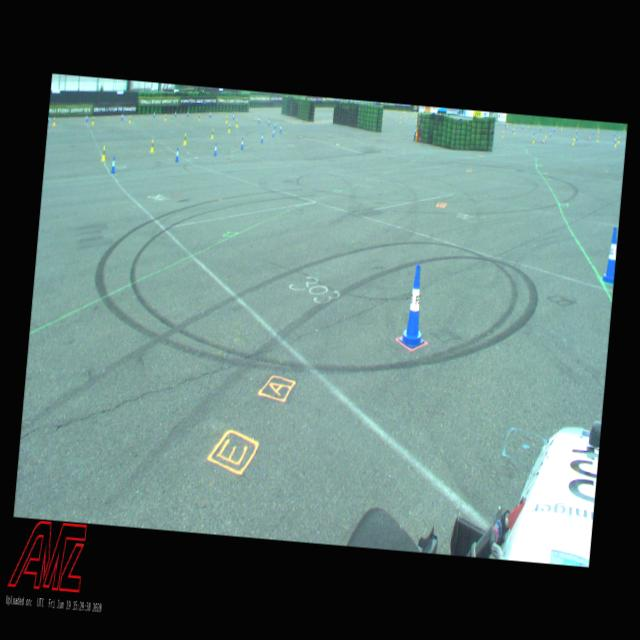blue_cone: (399, 266, 430, 346), (602, 226, 618, 282), (111, 156, 116, 172), (175, 147, 179, 162), (214, 142, 218, 155), (240, 138, 243, 149), (152, 110, 156, 118), (260, 132, 263, 142), (84, 115, 88, 122), (208, 110, 211, 118), (174, 110, 177, 116), (279, 124, 281, 132), (272, 128, 274, 136), (268, 118, 270, 125), (232, 112, 234, 119), (121, 113, 123, 120), (186, 109, 188, 116), (258, 116, 260, 122), (274, 122, 276, 128), (576, 134, 578, 140), (512, 126, 514, 132), (592, 130, 594, 134), (48, 114, 49, 122), (533, 129, 534, 134), (553, 127, 554, 131), (614, 132, 614, 136), (522, 125, 522, 129), (550, 132, 550, 138), (576, 128, 576, 132), (540, 126, 540, 130)
orange_cone: (542, 136, 544, 144), (506, 125, 506, 128)
yellow_cone: (100, 146, 106, 160), (150, 138, 154, 152), (52, 116, 56, 125), (128, 114, 132, 122), (210, 128, 213, 138), (91, 116, 94, 124), (184, 133, 186, 144), (236, 119, 238, 128), (614, 139, 616, 147), (228, 124, 230, 132), (572, 138, 574, 146), (618, 136, 620, 143), (532, 136, 534, 143), (164, 113, 166, 120), (502, 130, 504, 137), (573, 134, 575, 141), (596, 135, 598, 142), (544, 132, 546, 138), (225, 116, 227, 122), (198, 114, 200, 120), (560, 125, 562, 130), (382, 114, 383, 120), (556, 122, 557, 127), (399, 118, 400, 122), (598, 124, 598, 130), (598, 128, 598, 133), (406, 114, 406, 118), (510, 120, 510, 124), (624, 127, 624, 131), (514, 128, 514, 134), (528, 122, 528, 128), (412, 112, 412, 118), (578, 124, 578, 128)
